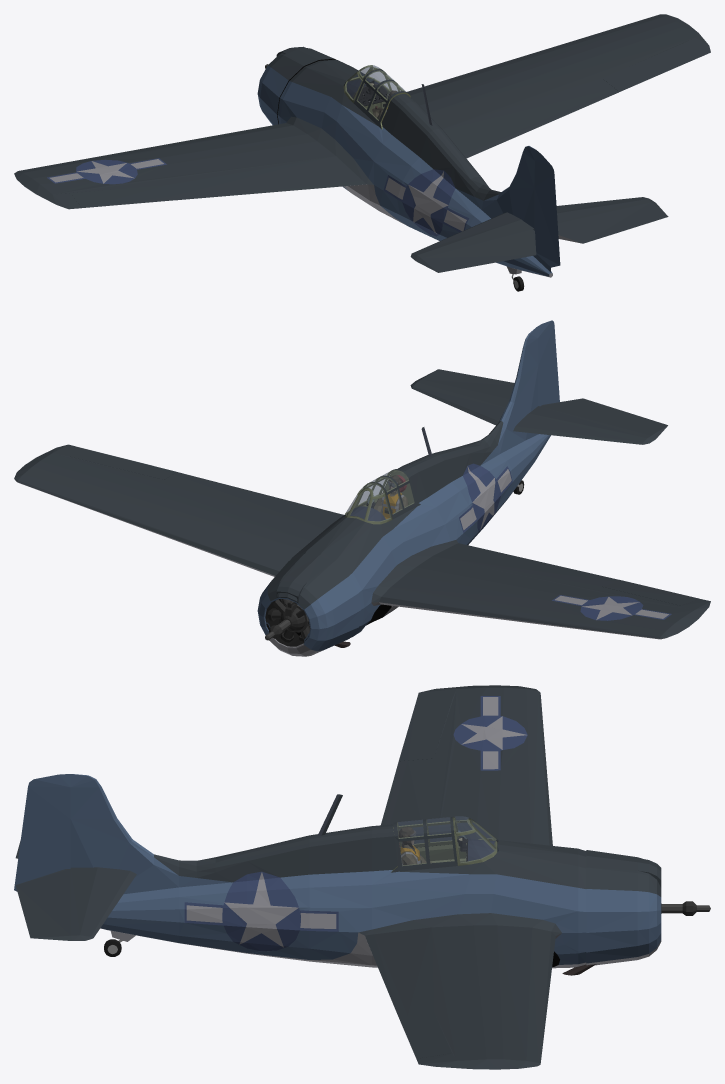
Rendered from F4FNP.obj.
3 views of the same model, one above another, from view 1: azimuth 30°, elevation 25°; view 2: azimuth 150°, elevation 25°; view 3: azimuth 270°, elevation 25° (orthographic). The views are drawn at different scales.
Visible parts, largest first — view 1: ShapeIndexedFaceSet.068_ShapeIndexedFaceSet.069, ShapeIndexedFaceSet.041_ShapeIndexedFaceSet.042, ShapeIndexedFaceSet.074_ShapeIndexedFaceSet.075, ShapeIndexedFaceSet.053_ShapeIndexedFaceSet.054, ShapeIndexedFaceSet.073_ShapeIndexedFaceSet.074, ShapeIndexedFaceSet.056_ShapeIndexedFaceSet.057, ShapeIndexedFaceSet.040_ShapeIndexedFaceSet.041, ShapeIndexedFaceSet.044_ShapeIndexedFaceSet.045, ShapeIndexedFaceSet.039_ShapeIndexedFaceSet.040, ShapeIndexedFaceSet.043_ShapeIndexedFaceSet.044, ShapeIndexedFaceSet.078_ShapeIndexedFaceSet.079, ShapeIndexedFaceSet.076_ShapeIndexedFaceSet.077 (+7 smaller); view 2: ShapeIndexedFaceSet.068_ShapeIndexedFaceSet.069, ShapeIndexedFaceSet.041_ShapeIndexedFaceSet.042, ShapeIndexedFaceSet.074_ShapeIndexedFaceSet.075, ShapeIndexedFaceSet.065_ShapeIndexedFaceSet.066, ShapeIndexedFaceSet.039_ShapeIndexedFaceSet.040, ShapeIndexedFaceSet.053_ShapeIndexedFaceSet.054, ShapeIndexedFaceSet.058_ShapeIndexedFaceSet.059, ShapeIndexedFaceSet.056_ShapeIndexedFaceSet.057, ShapeIndexedFaceSet.044_ShapeIndexedFaceSet.045, ShapeIndexedFaceSet.073_ShapeIndexedFaceSet.074, ShapeIndexedFaceSet.069_ShapeIndexedFaceSet.070, ShapeIndexedFaceSet.043_ShapeIndexedFaceSet.044 (+8 smaller); view 3: ShapeIndexedFaceSet.068_ShapeIndexedFaceSet.069, ShapeIndexedFaceSet.041_ShapeIndexedFaceSet.042, ShapeIndexedFaceSet.053_ShapeIndexedFaceSet.054, ShapeIndexedFaceSet.056_ShapeIndexedFaceSet.057, ShapeIndexedFaceSet.073_ShapeIndexedFaceSet.074, ShapeIndexedFaceSet.065_ShapeIndexedFaceSet.066, ShapeIndexedFaceSet.040_ShapeIndexedFaceSet.041, ShapeIndexedFaceSet.039_ShapeIndexedFaceSet.040, ShapeIndexedFaceSet.043_ShapeIndexedFaceSet.044, ShapeIndexedFaceSet.044_ShapeIndexedFaceSet.045, ShapeIndexedFaceSet.074_ShapeIndexedFaceSet.075, ShapeIndexedFaceSet.058_ShapeIndexedFaceSet.059 (+8 smaller).
Boxes of the visible parts, box(x1,y1,x2,y2) form: ShapeIndexedFaceSet.068_ShapeIndexedFaceSet.069: box(18, 14, 710, 258); ShapeIndexedFaceSet.041_ShapeIndexedFaceSet.042: box(277, 81, 552, 276); ShapeIndexedFaceSet.074_ShapeIndexedFaceSet.075: box(410, 197, 668, 272); ShapeIndexedFaceSet.053_ShapeIndexedFaceSet.054: box(381, 94, 500, 200); ShapeIndexedFaceSet.073_ShapeIndexedFaceSet.074: box(523, 146, 560, 267); ShapeIndexedFaceSet.056_ShapeIndexedFaceSet.057: box(457, 152, 550, 272); ShapeIndexedFaceSet.040_ShapeIndexedFaceSet.041: box(344, 176, 552, 277); ShapeIndexedFaceSet.044_ShapeIndexedFaceSet.045: box(14, 14, 710, 208); ShapeIndexedFaceSet.039_ShapeIndexedFaceSet.040: box(289, 59, 377, 125); ShapeIndexedFaceSet.043_ShapeIndexedFaceSet.044: box(383, 169, 469, 236); ShapeIndexedFaceSet.078_ShapeIndexedFaceSet.079: box(602, 44, 699, 91); ShapeIndexedFaceSet.076_ShapeIndexedFaceSet.077: box(70, 185, 176, 207); ShapeIndexedFaceSet.068_ShapeIndexedFaceSet.069: box(17, 379, 710, 638); ShapeIndexedFaceSet.041_ShapeIndexedFaceSet.042: box(344, 434, 550, 637); ShapeIndexedFaceSet.074_ShapeIndexedFaceSet.075: box(410, 369, 667, 444); ShapeIndexedFaceSet.065_ShapeIndexedFaceSet.066: box(257, 576, 360, 651); ShapeIndexedFaceSet.039_ShapeIndexedFaceSet.040: box(291, 507, 416, 575); ShapeIndexedFaceSet.053_ShapeIndexedFaceSet.054: box(398, 420, 503, 502); ShapeIndexedFaceSet.058_ShapeIndexedFaceSet.059: box(267, 554, 348, 609); ShapeIndexedFaceSet.056_ShapeIndexedFaceSet.057: box(481, 338, 538, 464); ShapeIndexedFaceSet.044_ShapeIndexedFaceSet.045: box(14, 427, 710, 638); ShapeIndexedFaceSet.073_ShapeIndexedFaceSet.074: box(523, 320, 559, 406); ShapeIndexedFaceSet.069_ShapeIndexedFaceSet.070: box(18, 482, 668, 639); ShapeIndexedFaceSet.043_ShapeIndexedFaceSet.044: box(459, 466, 512, 532); ShapeIndexedFaceSet.068_ShapeIndexedFaceSet.069: box(70, 687, 555, 1064); ShapeIndexedFaceSet.041_ShapeIndexedFaceSet.042: box(100, 845, 586, 964); ShapeIndexedFaceSet.053_ShapeIndexedFaceSet.054: box(154, 824, 397, 882); ShapeIndexedFaceSet.056_ShapeIndexedFaceSet.057: box(70, 787, 231, 893); ShapeIndexedFaceSet.073_ShapeIndexedFaceSet.074: box(14, 774, 101, 891); ShapeIndexedFaceSet.065_ShapeIndexedFaceSet.066: box(586, 889, 661, 963); ShapeIndexedFaceSet.040_ShapeIndexedFaceSet.041: box(100, 879, 586, 968); ShapeIndexedFaceSet.039_ShapeIndexedFaceSet.040: box(400, 840, 586, 888); ShapeIndexedFaceSet.043_ShapeIndexedFaceSet.044: box(184, 877, 338, 951); ShapeIndexedFaceSet.044_ShapeIndexedFaceSet.045: box(321, 685, 561, 1069); ShapeIndexedFaceSet.074_ShapeIndexedFaceSet.075: box(15, 841, 92, 940); ShapeIndexedFaceSet.058_ShapeIndexedFaceSet.059: box(586, 850, 661, 896).
Bounding box in the file's own units: 114 × 27.8 × 87.15.
